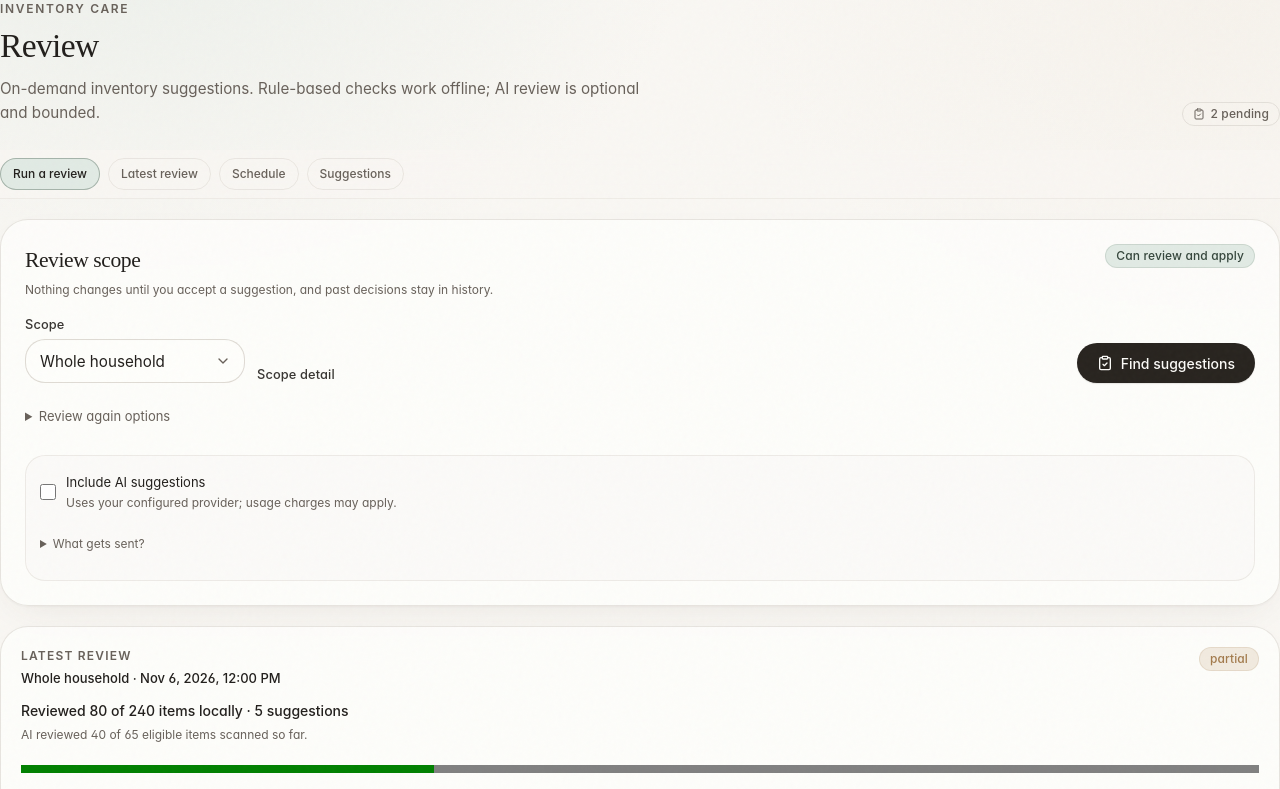
Scenario: ReviewPage › restores unfinished coverage silently and makes data sharing expandable
Expected: the text "AI reviewed 40 of 65 eligible items scanned so far." is shown, [21,727,308,742]
What coordinates should you click on to do the following:
click the heading "What gets sent?"
I would click on:
 (99, 544)
Its box is [53,536,145,551].
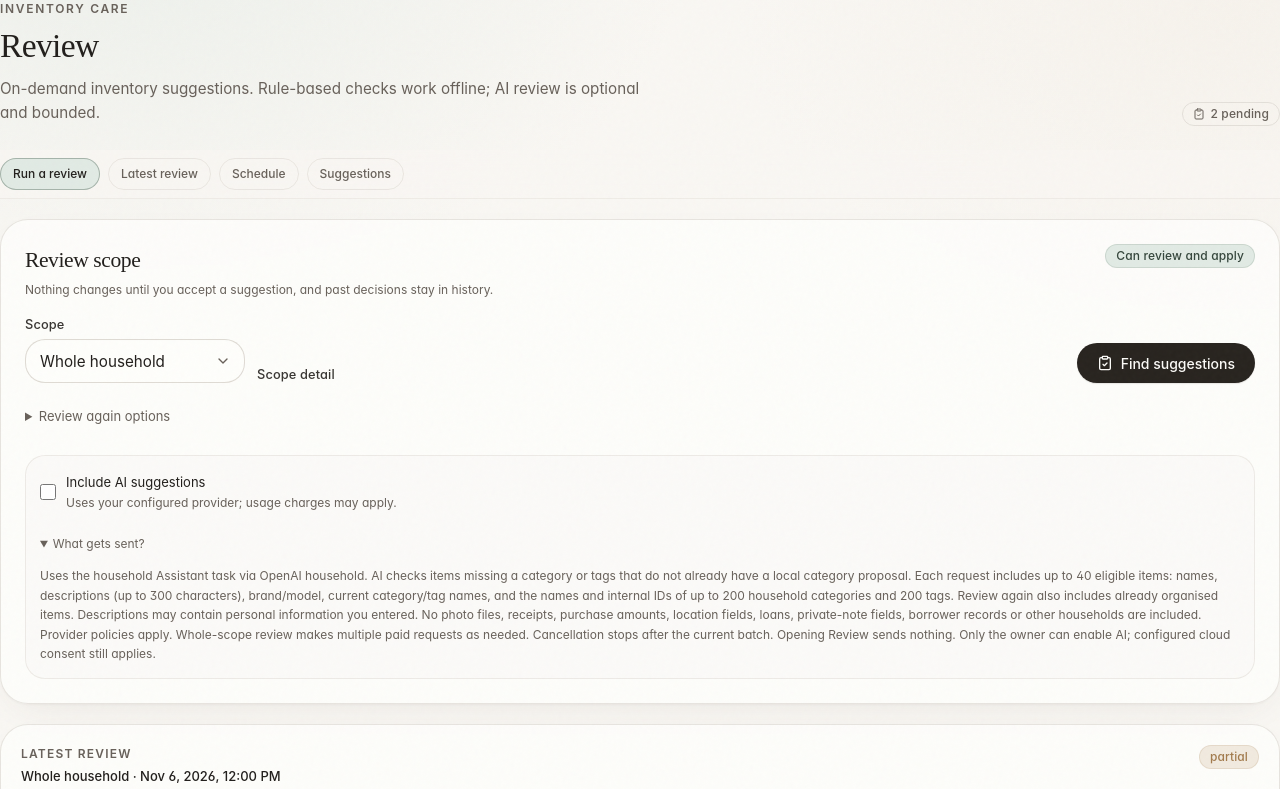
Expected: the text "Descriptions may contain personal information" is shown, [40,568,1218,642]
